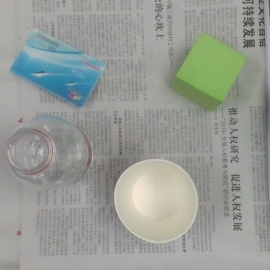bottle: (7, 115, 93, 189)
card: (11, 29, 105, 108)
cup: (114, 159, 199, 244)
